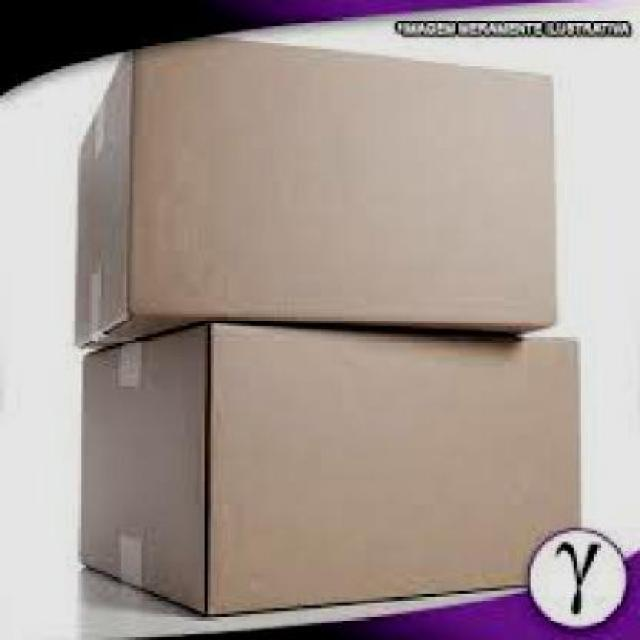box: (63, 32, 577, 348), (60, 332, 591, 614)
